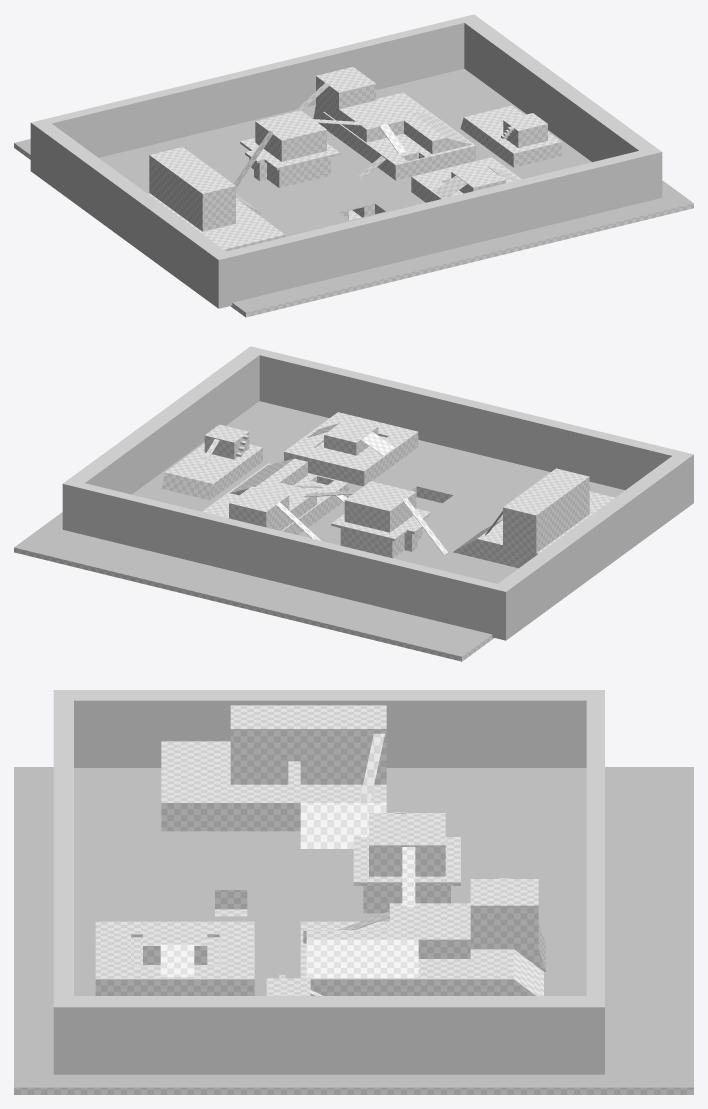
Rendered from Sol 1.fbx.
3 views of the same model, one above another, from view 1: azimuth 30°, elevation 25°; view 2: azimuth 150°, elevation 25°; view 3: azimuth 270°, elevation 25° (orthographic). The views are drawn at different scales.
Visible parts, largest first — view 1: Cube.005, Cube.008; view 2: Cube.005, Cube.008; view 3: Cube.008, Cube.005.
Part boxes in pixels (x1,y1,x2,y2): Cube.005: [30, 14, 662, 308]; Cube.008: [14, 67, 693, 317]; Cube.005: [62, 346, 693, 640]; Cube.008: [14, 401, 624, 661]; Cube.008: [14, 705, 693, 1094]; Cube.005: [53, 690, 604, 1074].
Size of the model in its own units: 20.34 by 2.96 by 17.7.
